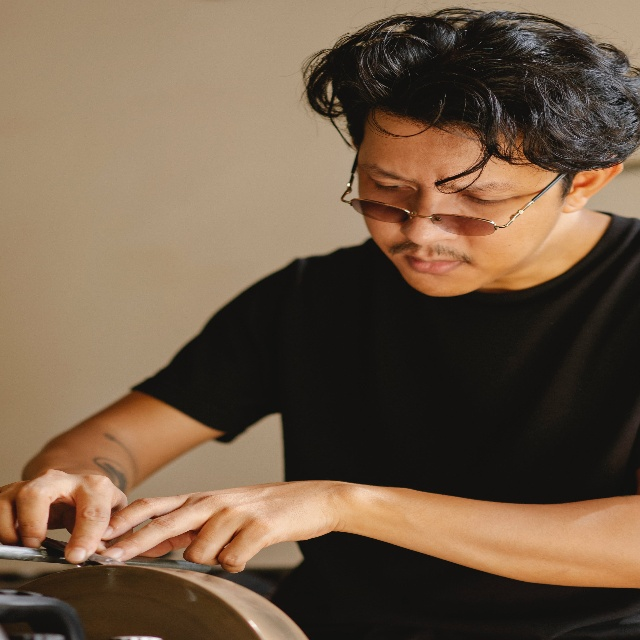Sin_guantes: (100, 478, 335, 574), (0, 467, 128, 564)
